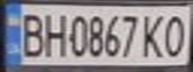0: (66, 10, 87, 58)
6: (103, 11, 124, 58)
7: (121, 11, 142, 58)
8: (87, 11, 106, 58)
B: (15, 9, 45, 58)
H: (39, 10, 69, 58)
K: (139, 10, 169, 60)
O: (160, 11, 190, 58)
